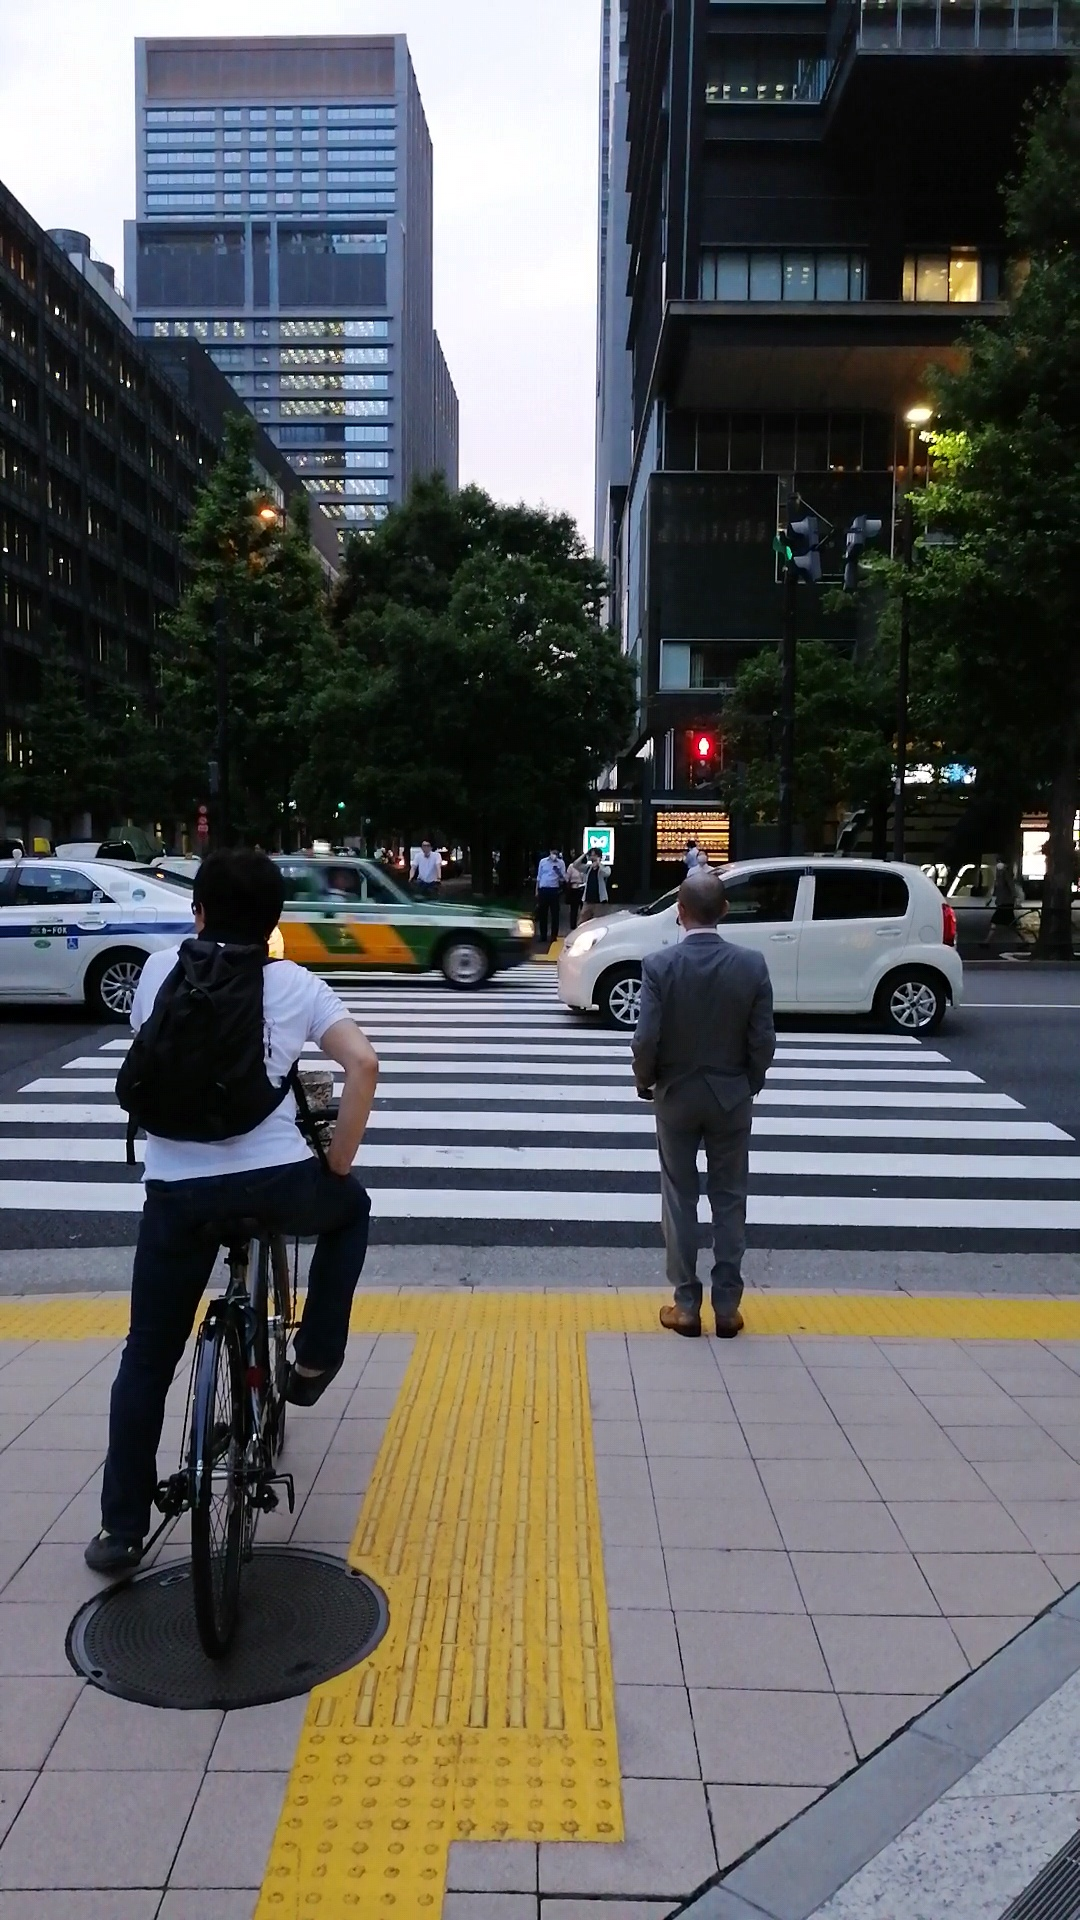red: (686, 728, 719, 789)
